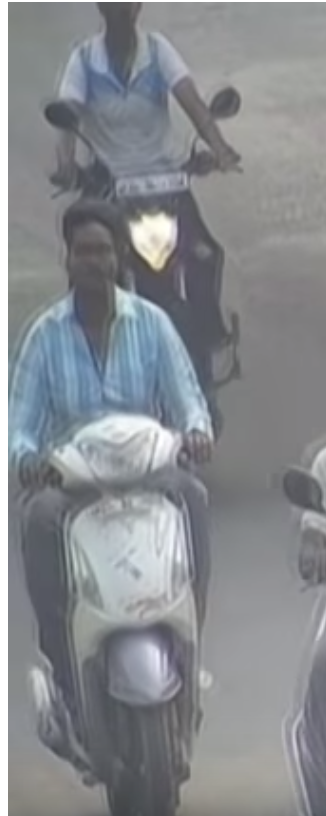h_bike: (32, 199, 217, 800)
h_nohelmet: (55, 194, 117, 303), (89, 1, 156, 54)
numplate: (103, 171, 192, 197)
